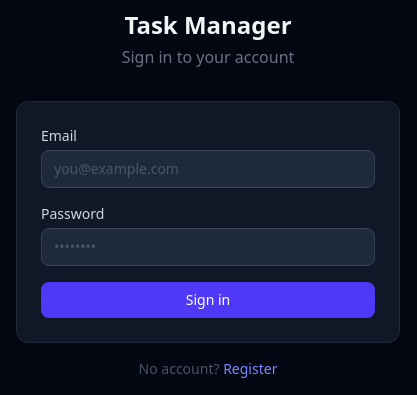
Login page › disables the submit button while loading
Type "u@t.com" into the field with placeholder "you@example.com" at (208, 169), box [41,150,375,188]
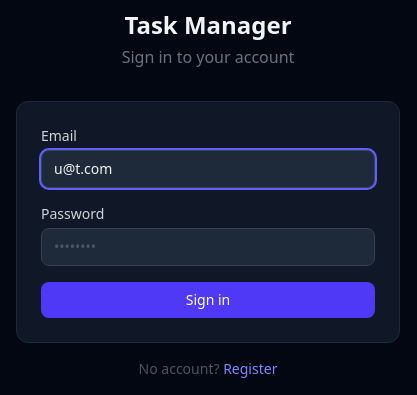
Type "password123" into the password field with placeholder "••••••••" at (208, 247), box [41,228,375,266]
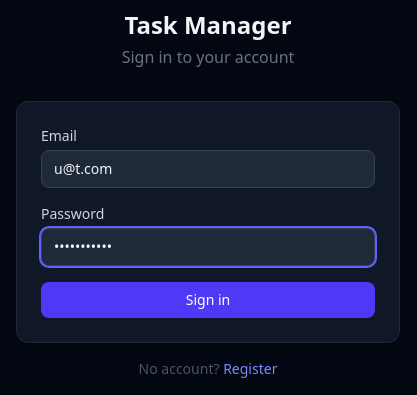
Click the button "Sign in" at (208, 300), box [41,282,375,318]
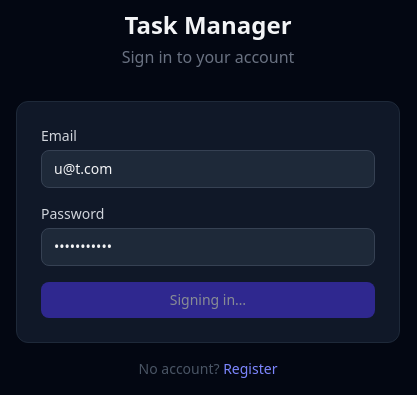
Result: the button "Signing in…" is disabled at [41,282,375,318]
